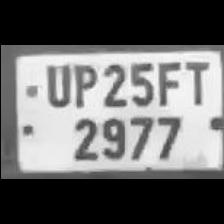2: (66, 114, 98, 164), (97, 58, 127, 108)
5: (126, 58, 156, 108)
7: (150, 110, 182, 162), (127, 112, 154, 162)
9: (96, 113, 126, 162)
F: (152, 56, 182, 107)
P: (68, 60, 98, 110)
T: (180, 56, 212, 107)
U: (40, 60, 72, 110)
